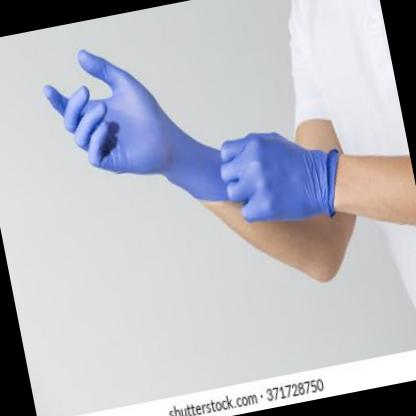Gloves: (35, 26, 230, 233), (214, 115, 353, 238)
